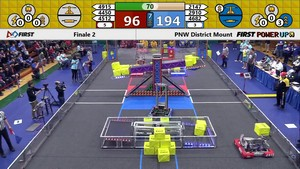cube: (254, 122, 272, 137), (158, 148, 171, 163), (154, 124, 166, 139), (160, 136, 171, 148), (143, 141, 153, 154), (194, 125, 205, 136), (196, 120, 208, 128), (120, 65, 130, 74), (144, 115, 152, 126), (112, 69, 122, 77), (110, 61, 119, 68), (185, 58, 194, 65), (186, 55, 192, 57)
